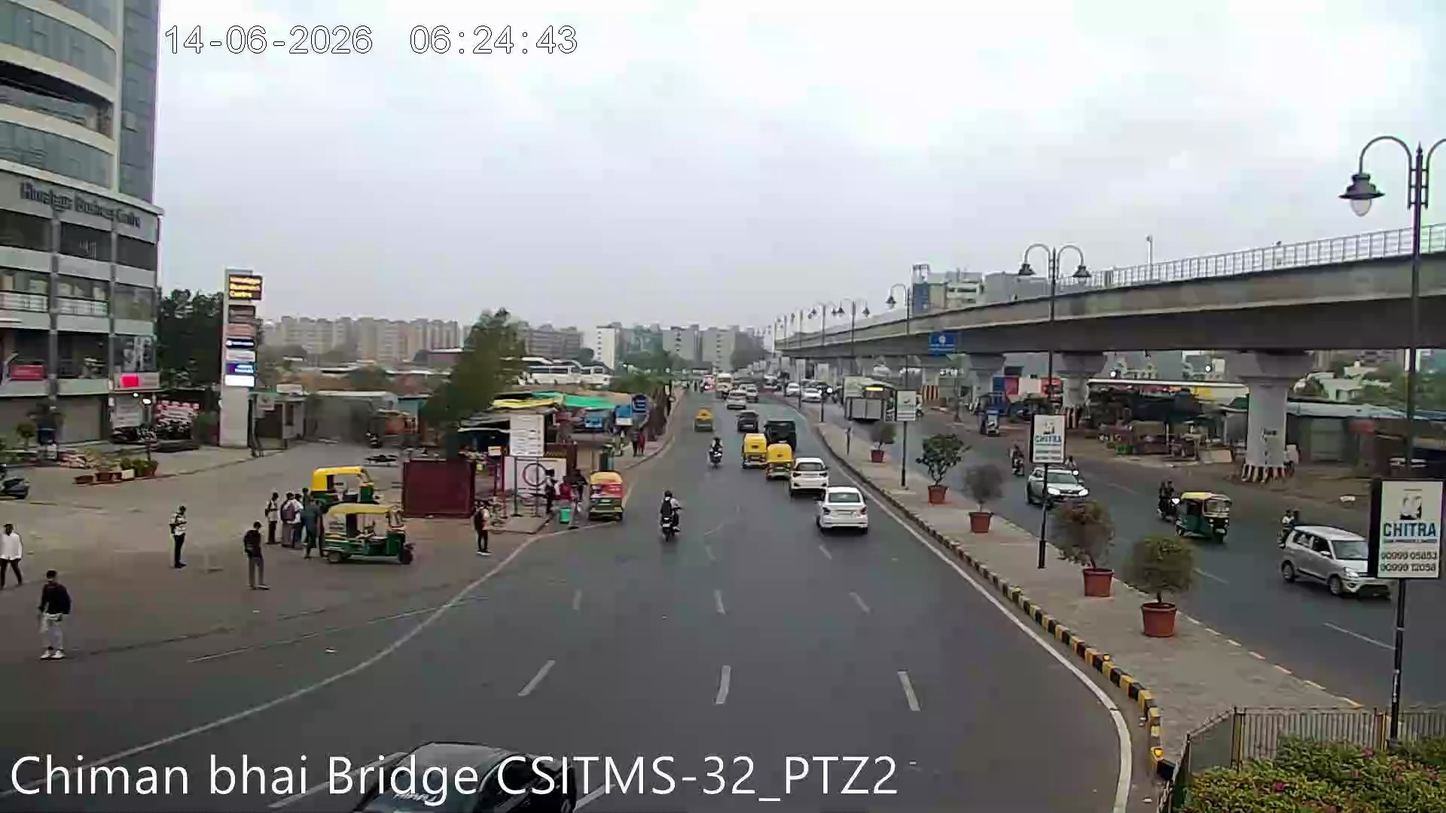auto_rickshaw: (319, 499, 413, 566), (1173, 486, 1233, 542), (307, 458, 374, 506), (586, 468, 627, 521), (739, 433, 768, 469), (692, 404, 715, 432)
car: (1275, 519, 1372, 591), (1025, 460, 1092, 508), (814, 482, 871, 535), (787, 455, 830, 495)
pedestrian: (31, 564, 78, 666), (162, 495, 195, 576), (238, 517, 271, 596), (0, 516, 27, 593), (275, 485, 303, 547), (267, 485, 295, 545), (471, 505, 494, 559)
truck: (1271, 484, 1446, 595), (1276, 519, 1374, 591)
two_wheeler: (654, 484, 686, 548), (705, 432, 726, 471)
